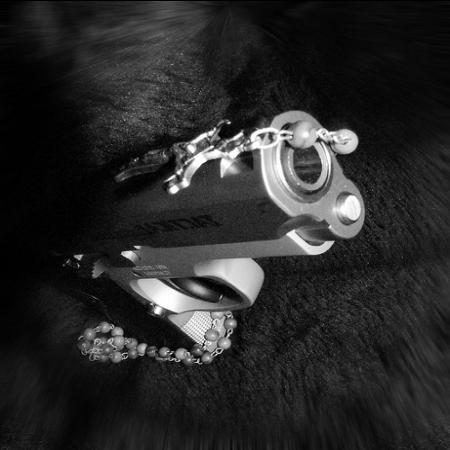Pistol: (39, 105, 362, 369)
